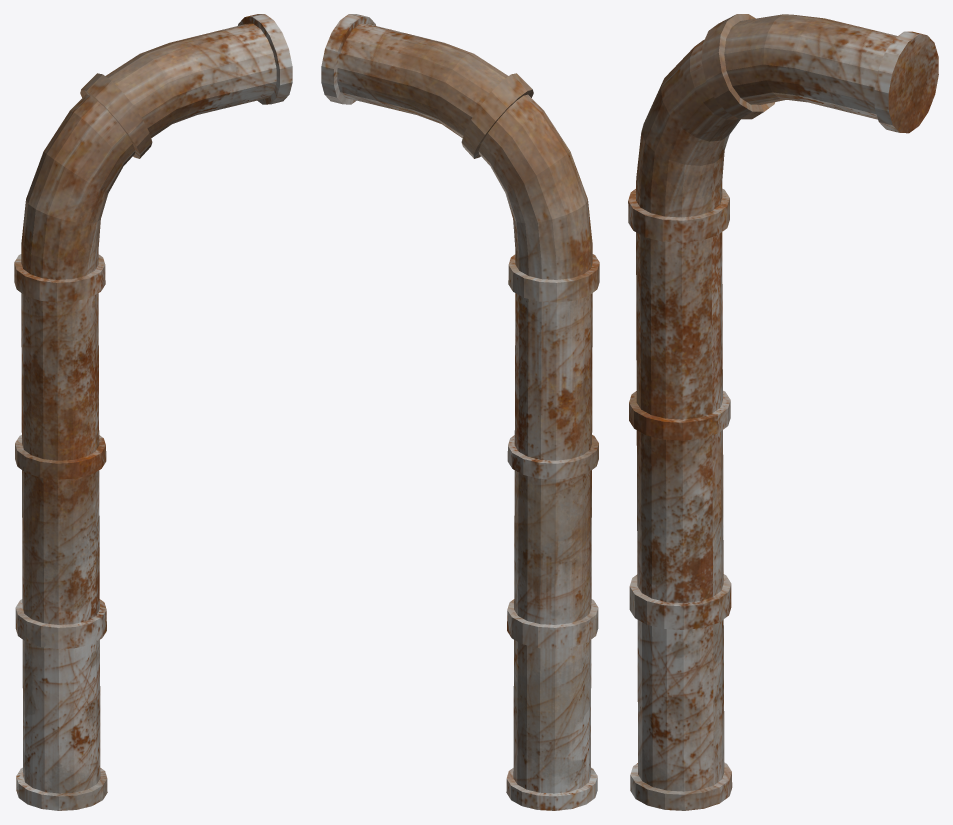
File: big_pipe.glb
3 renders of one model, left to right at view 1: azimuth 30°, elevation 25°; view 2: azimuth 150°, elevation 25°; view 3: azimuth 330°, elevation 25°, orthographic. The views are drawn at different scales.
Parts seen in each view (by area): view 1: big_tube; view 2: big_tube; view 3: big_tube.
Boxes of the visible parts, x1,y1,x2,y2 form: big_tube: [14, 14, 292, 810]; big_tube: [321, 14, 599, 810]; big_tube: [628, 14, 938, 810].
Bounding box in the file's own units: 7.44 × 20.6 × 2.32.
Materials: 1 (1 with a texture image).
